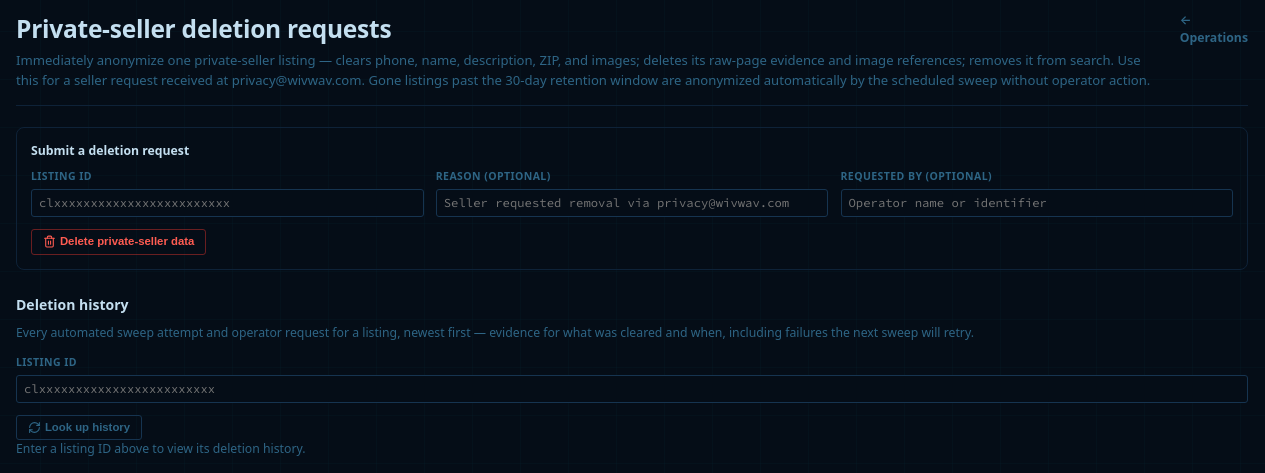
Test: PrivacyRequestsClient deletion request › should show an error message without crashing when the listing is not a private seller
Type "listing-2" into the field with placeholder "clxxxxxxxxxxxxxxxxxxxxxxxx" below "Reason (optional)" at x=227, y=203, box x1=31 y1=189 x2=424 y2=217
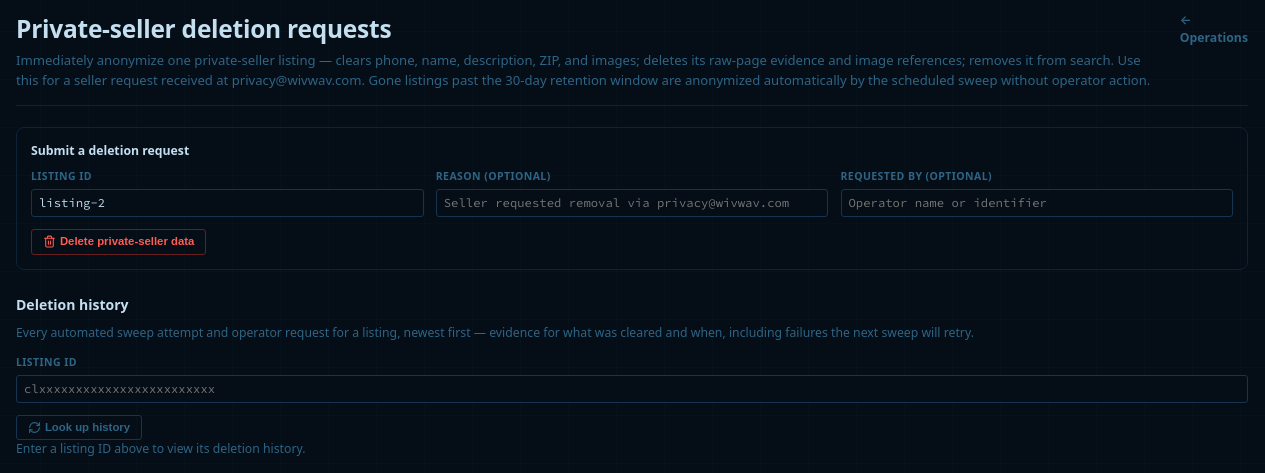
Click the button "Delete private-seller data" at x=118, y=242, box x1=31 y1=229 x2=206 y2=255
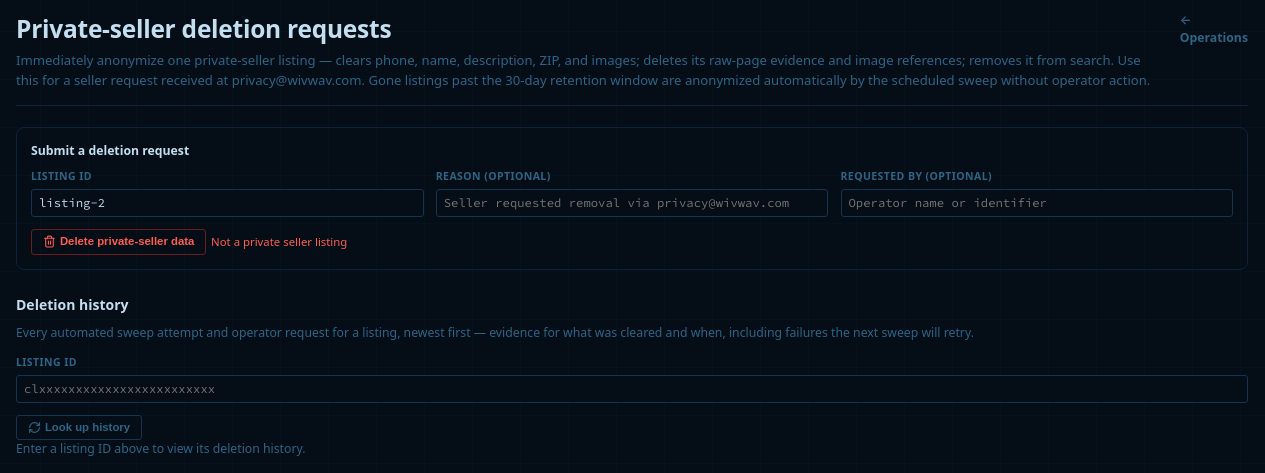
Expected: the text "Not a private seller listing" is shown, x1=211 y1=233 x2=347 y2=250
